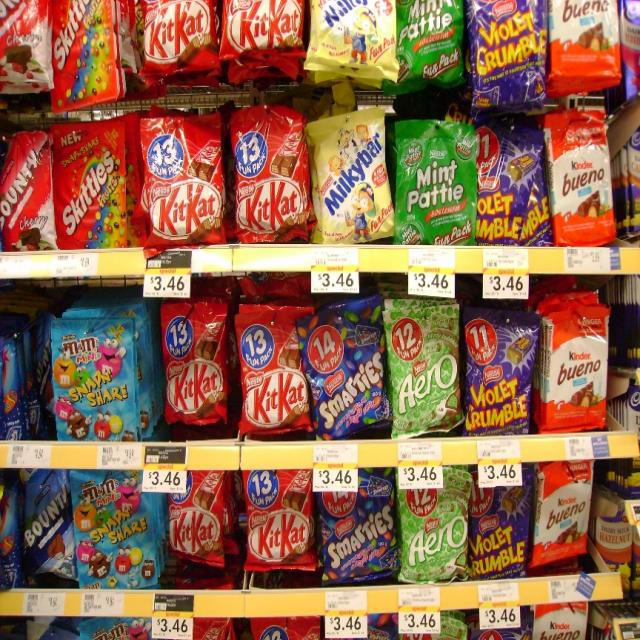q151: (51, 115, 134, 253), (54, 0, 131, 115)
q280: (135, 111, 230, 247), (231, 110, 316, 247), (236, 300, 312, 444), (159, 294, 231, 438), (248, 462, 319, 587), (134, 0, 219, 93), (163, 472, 230, 583), (223, 0, 304, 87)
